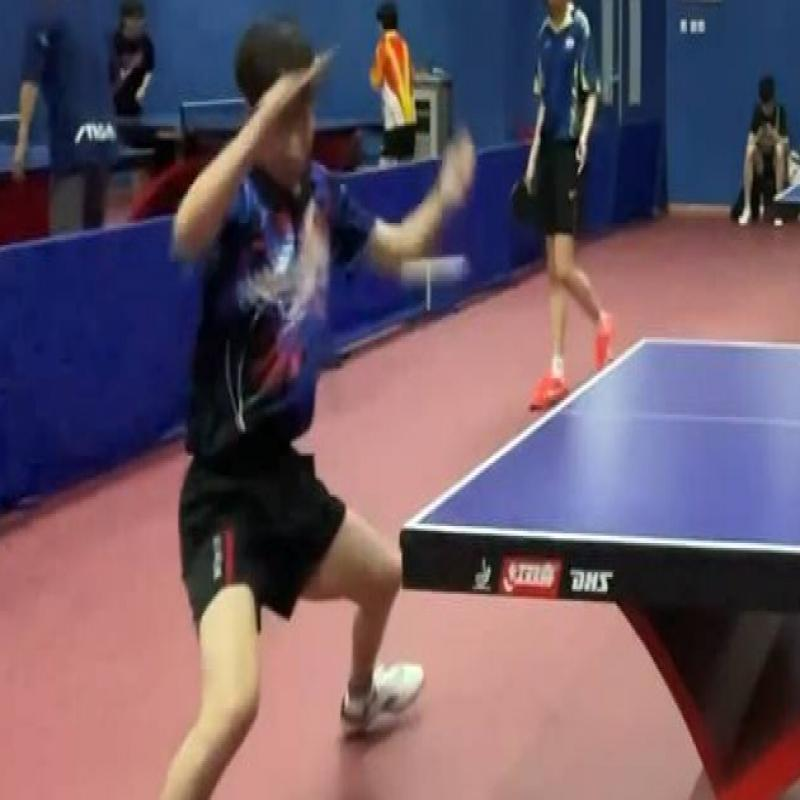bats: (280, 36, 342, 104)
